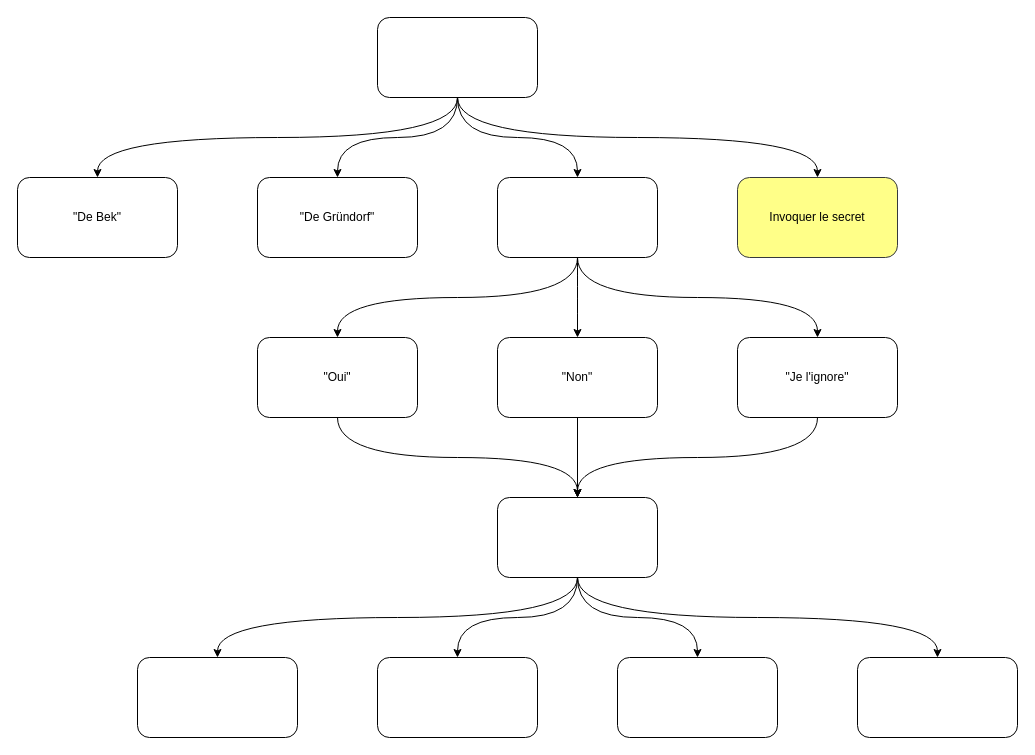
Image size: 1035x755. Some labels were removed from this diagram. Each missing label, with the box of its shape:
"De Räublitz": (496, 176, 658, 258)
Fouille complète: (496, 496, 658, 578)
Identifié comme messager: (376, 16, 538, 98)
